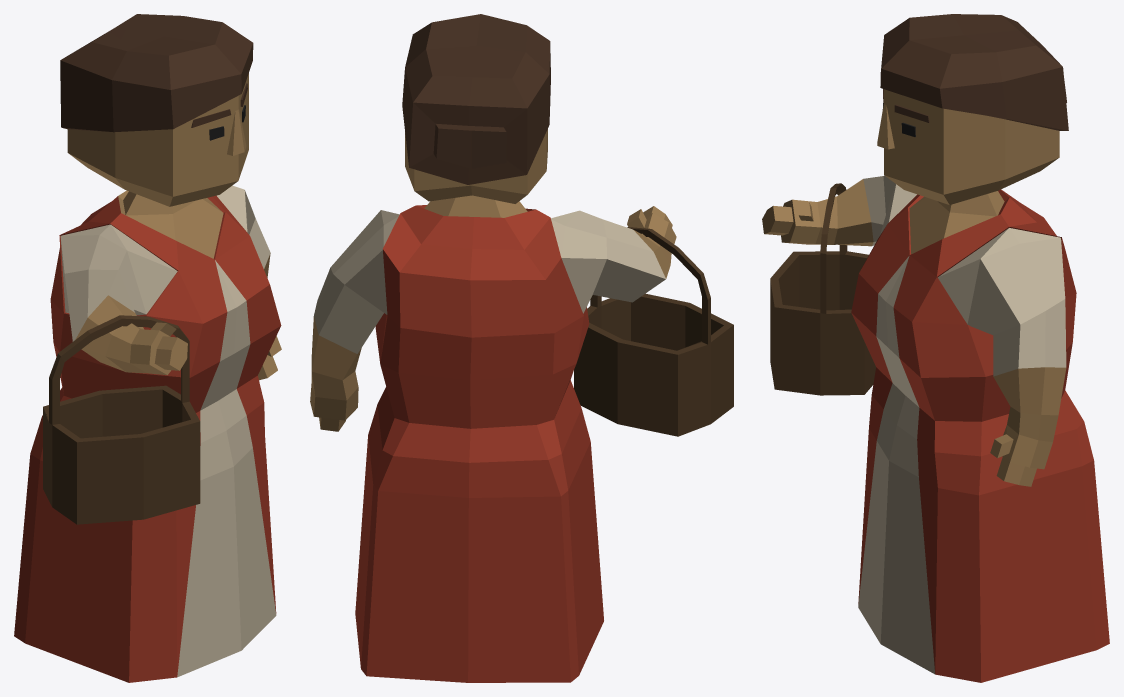
The model's file is pedestrian.glb.
The picture shows the model from 3 angles, left to right: view 1: azimuth 30°, elevation 25°; view 2: azimuth 150°, elevation 25°; view 3: azimuth 270°, elevation 25°; orthographic projection.
Parts seen in each view (by area): view 1: woman1.001; view 2: woman1.001; view 3: woman1.001.
Part boxes in pixels (bbox=[...]): woman1.001: bbox=[14, 14, 281, 682]; woman1.001: bbox=[310, 14, 733, 682]; woman1.001: bbox=[762, 14, 1109, 682].
Bounding box in the file's own units: 85.64 × 158 × 83.24.
Materials: 1 (1 with a texture image).
